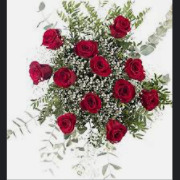RedRose: (23, 57, 53, 83), (102, 116, 126, 146), (108, 15, 134, 41), (54, 64, 77, 93), (141, 83, 162, 114), (89, 54, 113, 80), (123, 55, 147, 81), (114, 78, 135, 106), (55, 110, 77, 136), (77, 34, 100, 58), (39, 28, 65, 49), (81, 92, 104, 112)
